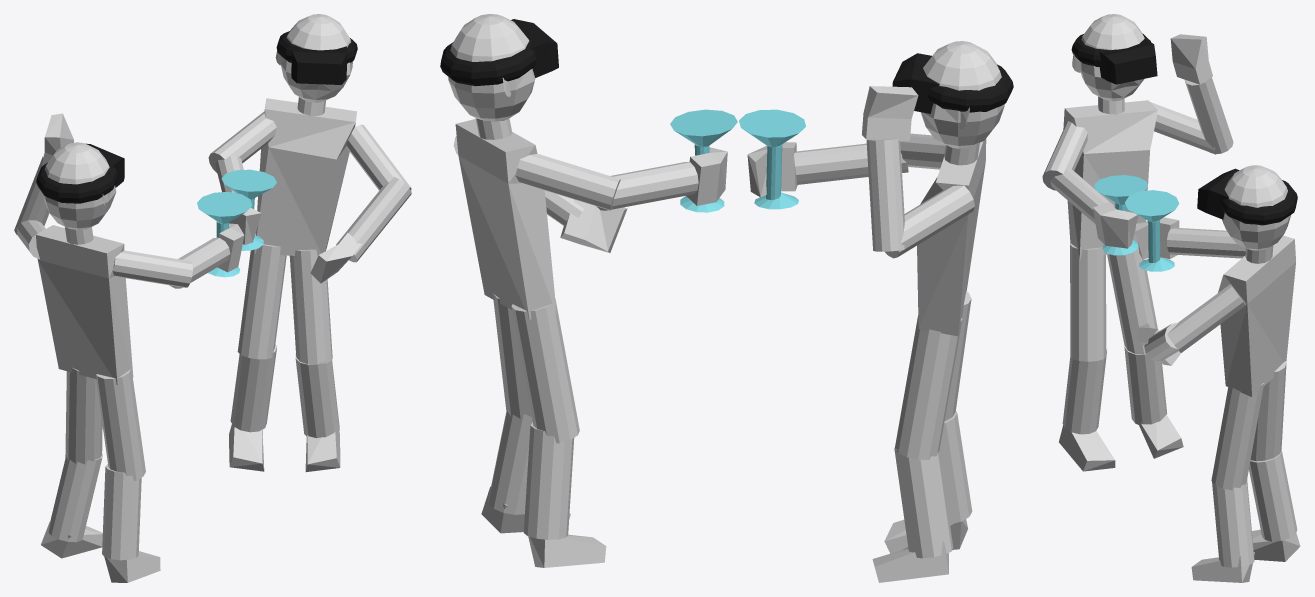
File: people_in_vr.fbx
3 views of the same model, side by side, from view 1: azimuth 30°, elevation 25°; view 2: azimuth 150°, elevation 25°; view 3: azimuth 270°, elevation 25° (orthographic). The views are drawn at different scales.
Parts seen in each view (by area): view 1: group_1702263668, mesh_646185359, mesh_73561425, mesh_540276580, mesh_482616755, mesh_1850631087, mesh_31405339, mesh_1258395565, mesh_1306484384, mesh_1321996092, mesh_952552058, mesh_1341669533 (+6 smaller); view 2: group_1702263668, mesh_646185359, mesh_73561425, mesh_482616755, mesh_31405339, mesh_952552058, mesh_1850631087, mesh_1231755204, mesh_540276580, mesh_477476261, mesh_1701525971, mesh_1341669533 (+5 smaller); view 3: group_1702263668, mesh_646185359, mesh_540276580, mesh_482616755, mesh_31405339, mesh_1850631087, mesh_73561425, mesh_1321996092, mesh_1231755204, mesh_477476261, mesh_748323347, mesh_1379680720 (+8 smaller).
Boxes of the visible parts, x1,y1,x2,y2 form: group_1702263668: (14,113,251,582); mesh_646185359: (254,98,356,255); mesh_73561425: (237,244,286,359); mesh_540276580: (289,249,332,364); mesh_482616755: (280,14,352,102); mesh_1850631087: (295,353,339,438); mesh_31405339: (230,344,276,432); mesh_1258395565: (336,177,411,262); mesh_1306484384: (291,46,347,84); mesh_1321996092: (346,124,411,190); mesh_952552058: (208,111,276,172); mesh_1341669533: (229,424,264,471); group_1702263668: (739,41,1013,582); mesh_646185359: (455,119,556,319); mesh_73561425: (511,299,579,443); mesh_482616755: (448,14,535,121); mesh_31405339: (523,422,574,539); mesh_952552058: (515,154,620,210); mesh_1850631087: (488,411,532,514); mesh_1231755204: (596,162,698,210); mesh_540276580: (493,293,531,418); mesh_477476261: (440,38,537,86); mesh_1701525971: (560,199,627,252); mesh_1341669533: (528,534,606,567); group_1702263668: (1042,14,1233,471); mesh_646185359: (1218,235,1295,396); mesh_540276580: (1211,383,1264,490); mesh_482616755: (1222,165,1290,250); mesh_31405339: (1249,450,1297,541); mesh_1850631087: (1212,476,1254,567); mesh_73561425: (1250,361,1286,461); mesh_1321996092: (1167,284,1245,352); mesh_1231755204: (1167,227,1245,258); mesh_477476261: (1220,180,1297,225); mesh_748323347: (1125,190,1179,221); mesh_1379680720: (1191,552,1254,582).
Bounding box in the file's own units: 50.54 × 51.99 × 28.68.
